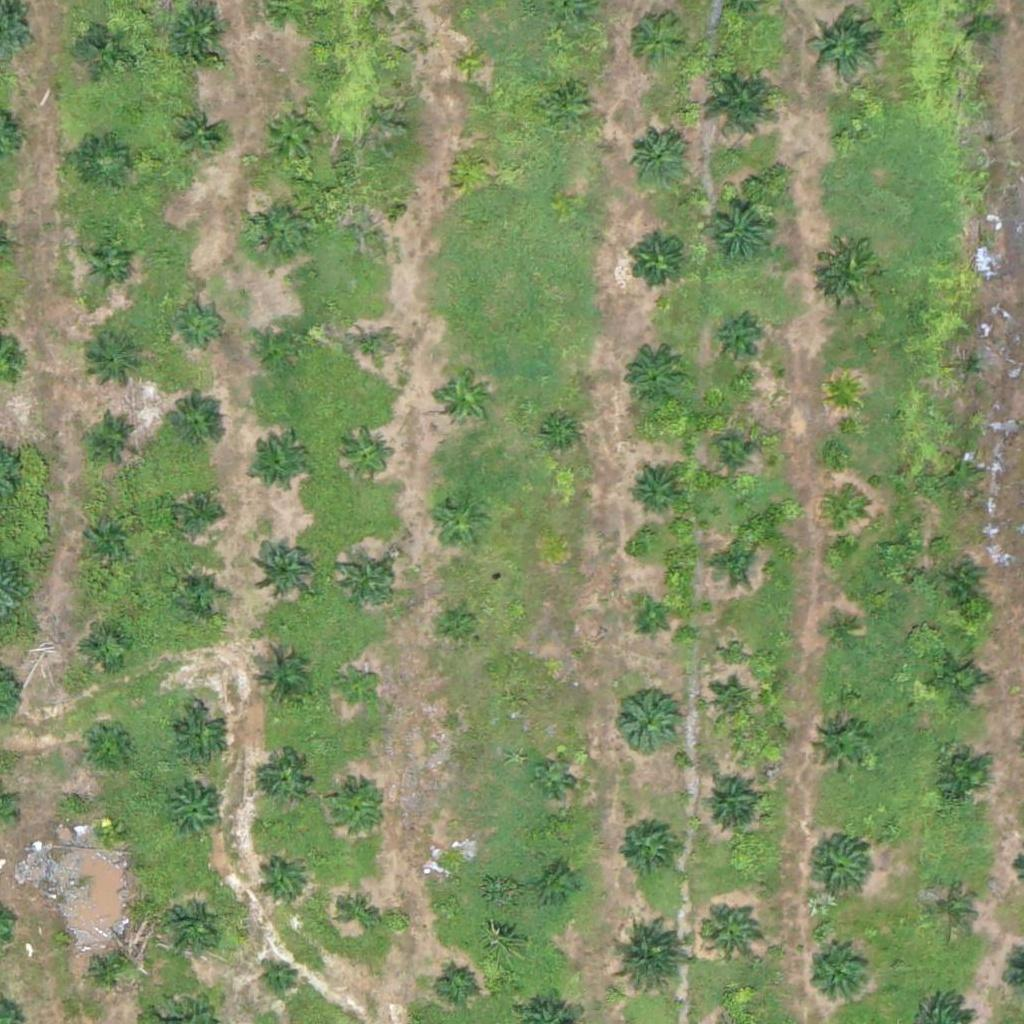Kelapa_Sawit: (698, 60, 785, 148), (806, 11, 881, 87), (609, 923, 684, 998), (701, 191, 776, 266), (615, 687, 678, 750), (426, 491, 489, 554), (169, 705, 232, 768), (624, 9, 687, 72), (627, 126, 690, 189), (818, 243, 881, 306), (85, 329, 148, 392), (243, 200, 306, 263), (433, 368, 496, 431), (164, 398, 227, 461), (248, 436, 310, 499), (616, 814, 678, 877), (161, 897, 223, 960), (249, 649, 311, 712), (336, 550, 398, 613), (252, 533, 314, 596), (621, 346, 683, 409), (625, 229, 687, 292), (699, 771, 761, 834), (809, 715, 871, 778), (929, 748, 991, 811), (807, 835, 869, 898), (811, 946, 873, 1009), (701, 900, 763, 963), (167, 2, 229, 65), (261, 103, 323, 166), (928, 649, 990, 712), (166, 784, 228, 846), (342, 429, 392, 480), (627, 467, 677, 518), (704, 537, 754, 588), (79, 137, 129, 188), (77, 19, 127, 70), (956, 1, 1006, 52), (172, 108, 222, 159), (346, 323, 396, 374), (258, 321, 308, 372), (176, 298, 226, 349), (84, 240, 134, 291), (81, 717, 131, 767), (80, 621, 130, 671), (262, 752, 312, 802), (332, 784, 382, 834), (708, 317, 758, 367), (541, 76, 591, 126), (925, 886, 975, 936), (85, 943, 135, 993), (705, 680, 755, 730), (709, 431, 759, 481), (174, 487, 224, 537), (176, 571, 226, 621), (82, 507, 132, 557), (87, 412, 137, 462), (257, 856, 307, 906), (260, 958, 298, 996), (824, 374, 862, 412), (946, 563, 984, 601), (826, 496, 864, 534), (825, 616, 863, 654), (942, 454, 980, 492), (454, 46, 492, 84), (450, 146, 488, 184), (541, 417, 579, 455), (337, 669, 375, 707), (435, 852, 473, 890), (341, 894, 379, 932), (540, 868, 577, 906), (440, 966, 478, 1003), (951, 348, 988, 386), (632, 600, 669, 638), (357, 198, 394, 236), (440, 606, 477, 643), (535, 756, 572, 793), (834, 126, 859, 151), (94, 818, 119, 843)
